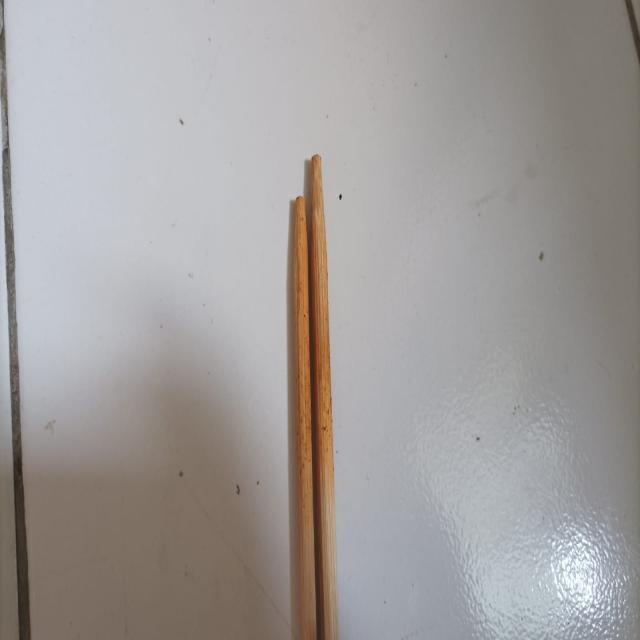Organik: (293, 157, 339, 639)
